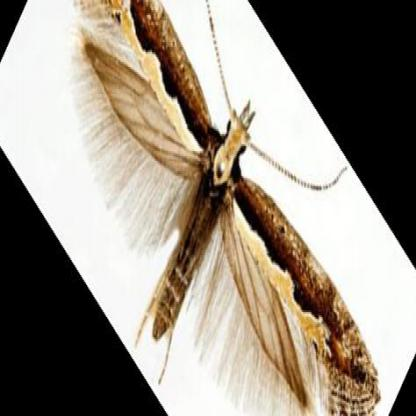plutella: (68, 0, 379, 414)
